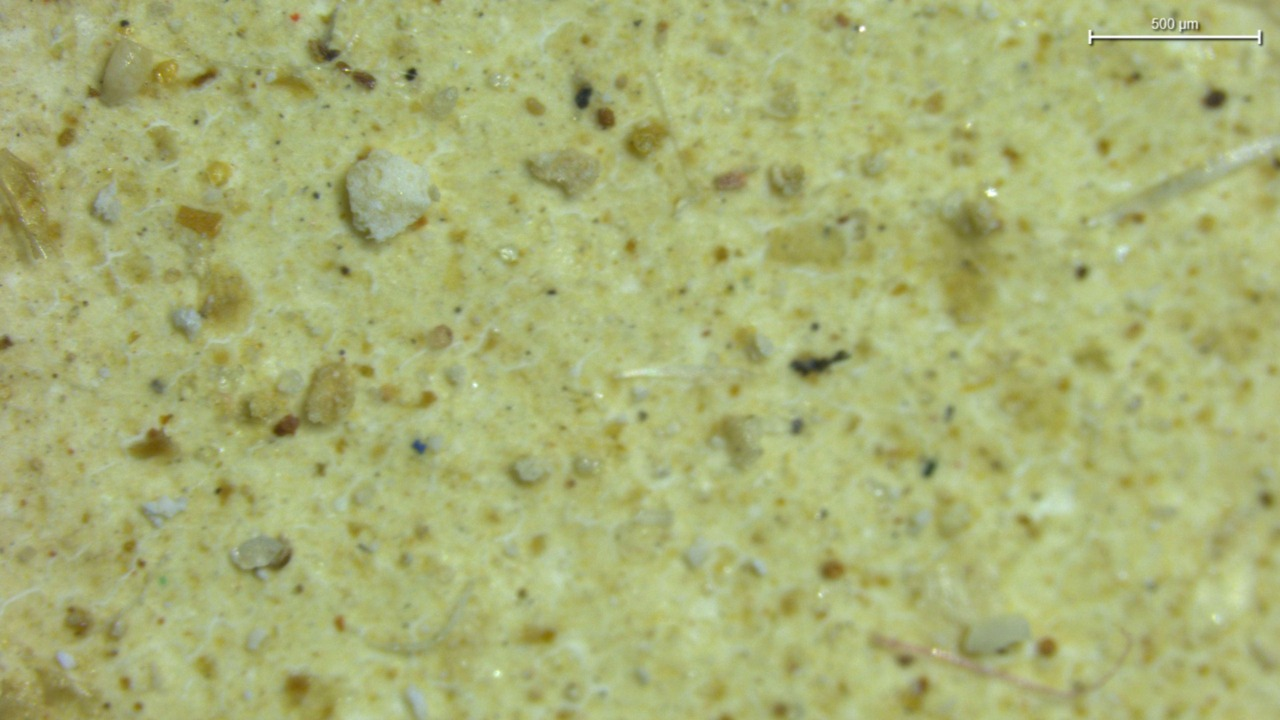microplastic_fragment: (342, 151, 434, 247), (526, 152, 599, 199), (302, 364, 352, 425), (143, 498, 184, 528), (96, 186, 119, 223), (174, 308, 200, 335)
